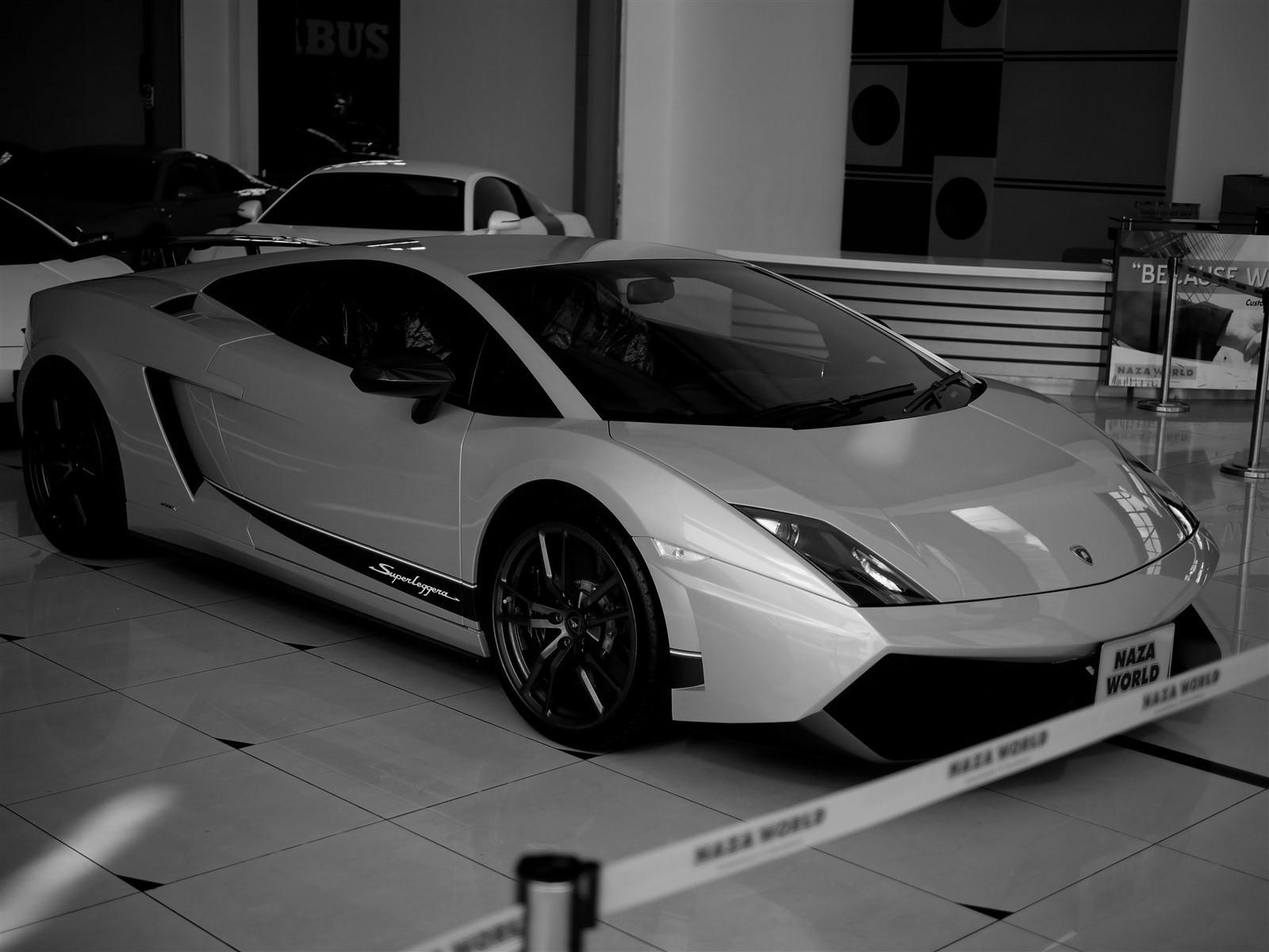car: (17, 236, 1219, 774)
